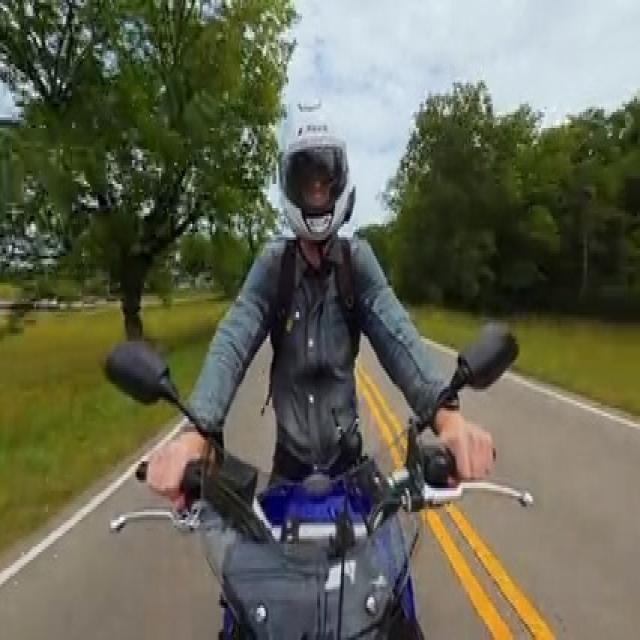Helmet_Wearer: (264, 84, 364, 256)
Person: (154, 94, 496, 496)
